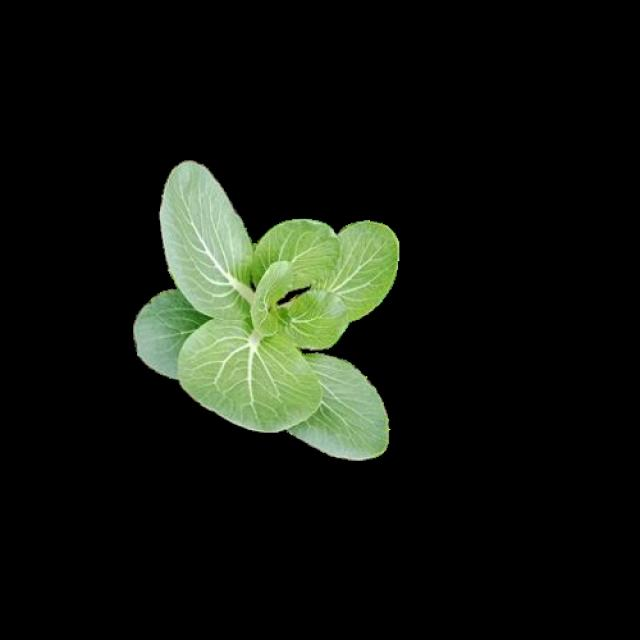healthy: (132, 159, 400, 458)
not-mature: (134, 161, 403, 461)
